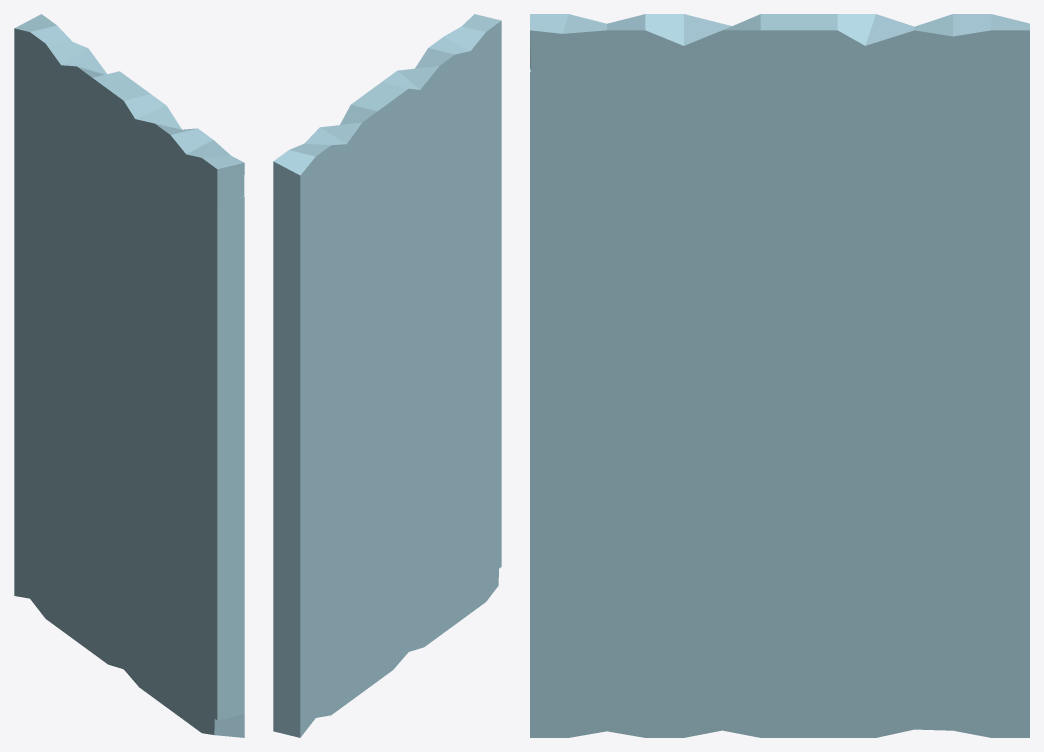
Rendered from POEM SHARD (all pieces collected).fbx.
3 views of the same model, side by side, from view 1: azimuth 30°, elevation 25°; view 2: azimuth 150°, elevation 25°; view 3: azimuth 270°, elevation 25° (orthographic). The views are drawn at different scales.
Visible parts, largest first — view 1: pCube7, pCube1, pCube6; view 2: pCube7, pCube1, pCube6; view 3: pCube7, pCube1, pCube6.
Part boxes in pixels (bbox=[...]): pCube7: bbox=[14, 164, 244, 720]; pCube1: bbox=[14, 14, 244, 325]; pCube6: bbox=[14, 496, 244, 737]; pCube7: bbox=[273, 163, 501, 713]; pCube1: bbox=[273, 14, 501, 309]; pCube6: bbox=[273, 481, 501, 737]; pCube7: bbox=[530, 68, 1029, 642]; pCube1: bbox=[530, 14, 1029, 242]; pCube6: bbox=[530, 608, 1029, 737].
Bounding box in the file's own units: 0.496 × 10 × 6.4.
